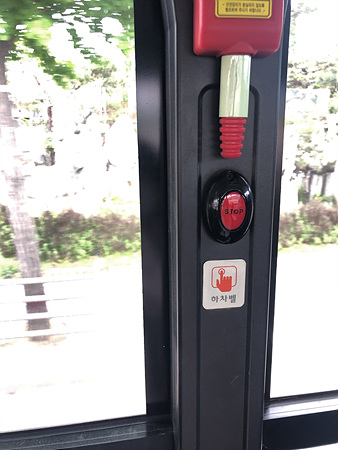bell: (201, 169, 255, 243)
